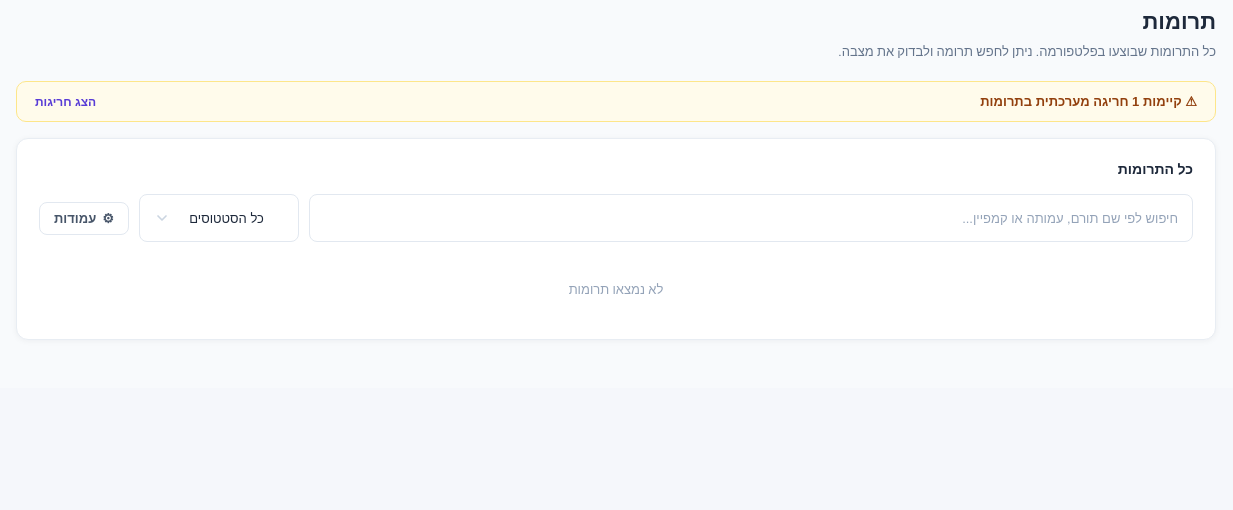
Scenario: PlatformCardcomOpsPageComponent - anomaly indicator (honest classification) › lookup_failed is labeled "המערכת מנסה שוב אוטומטית", not framed as something the operator must resolve
Click the button with class "ops-anomaly-bar".
click(1056, 102)  # box [16, 81, 1216, 122]
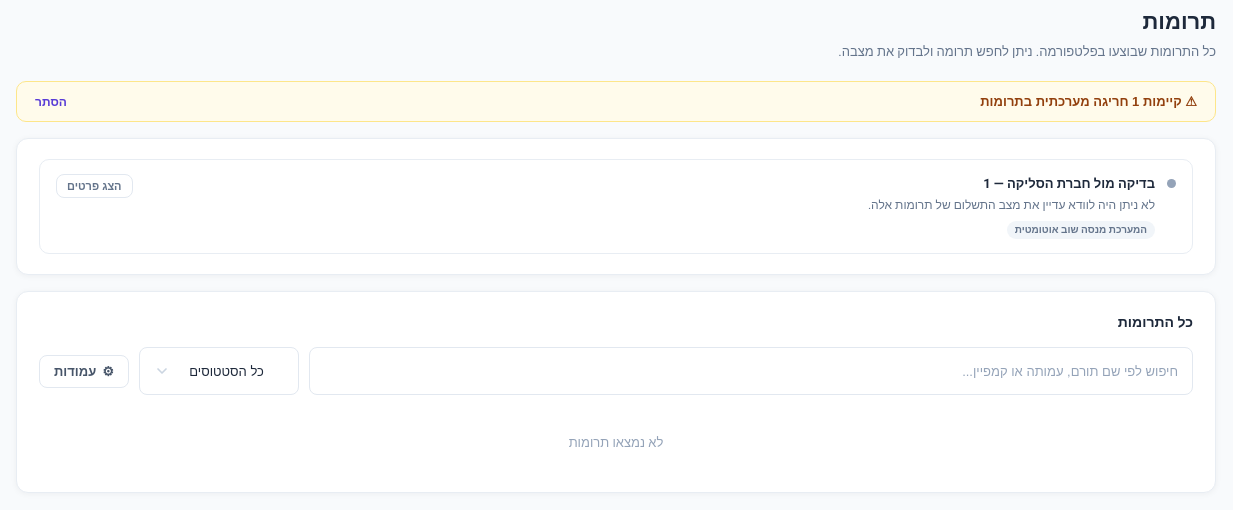
expect the text "המערכת מנסה שוב אוטומטית" is shown: met, box [1007, 221, 1155, 239]
